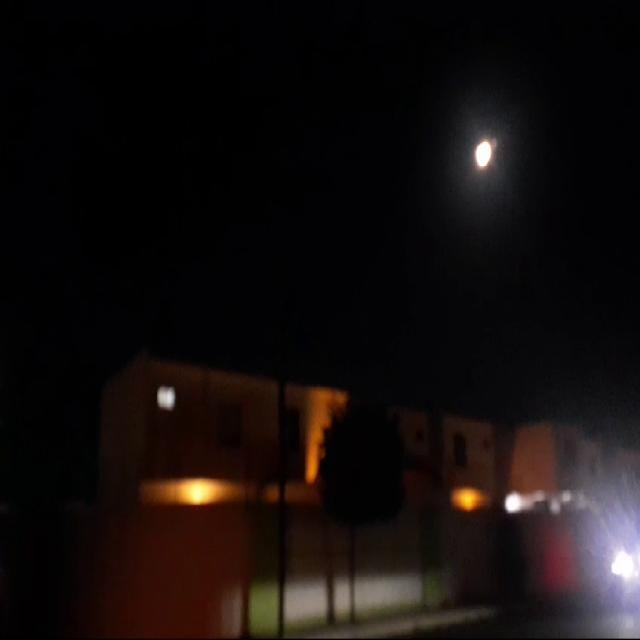moon: (471, 135, 491, 169)
